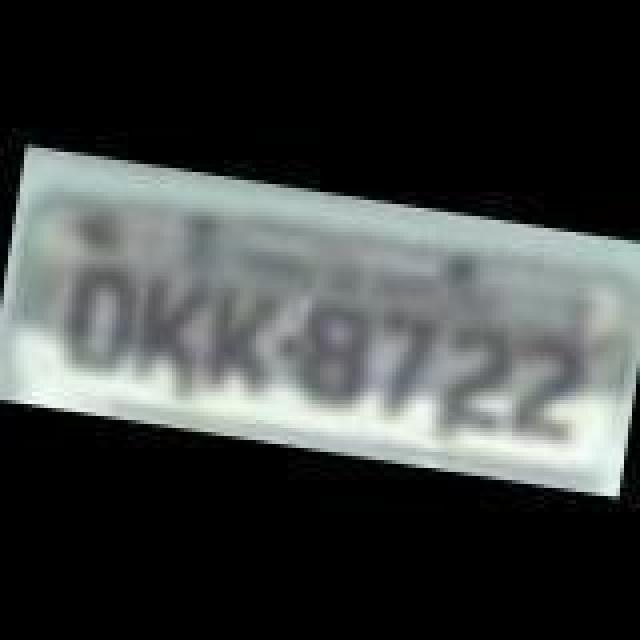2: (506, 332, 598, 452), (432, 322, 520, 438)
7: (360, 302, 440, 418)
8: (294, 292, 378, 412)
K: (196, 280, 284, 400), (124, 268, 204, 388)
O: (54, 262, 138, 378)
